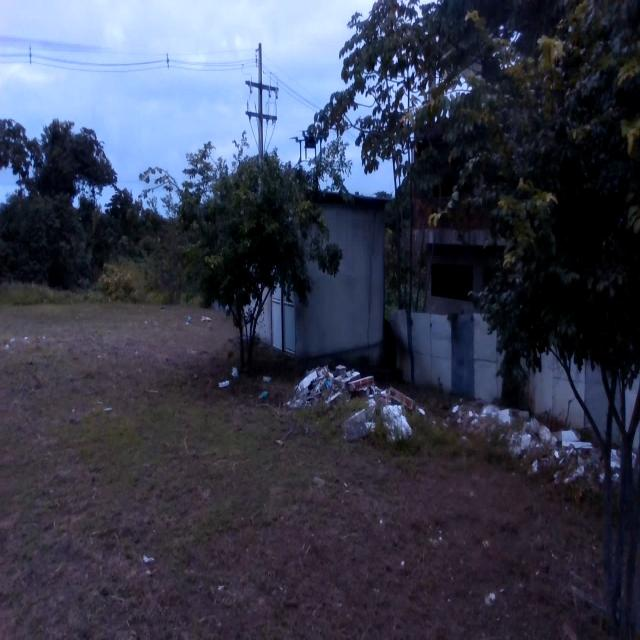-uav-: (288, 123, 332, 181)
